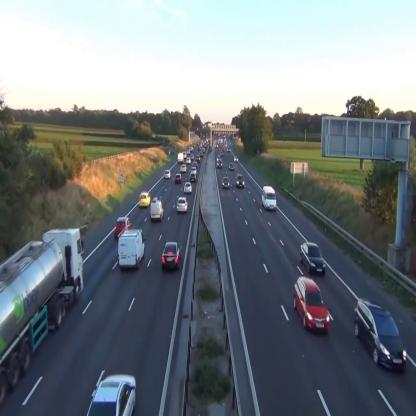car: (354, 298, 407, 372), (86, 374, 136, 416), (294, 276, 329, 334), (300, 242, 326, 276), (162, 242, 182, 272), (114, 217, 132, 238), (139, 191, 150, 207), (177, 197, 188, 213), (236, 174, 244, 188), (222, 177, 230, 189), (184, 182, 191, 192), (175, 173, 181, 183), (164, 170, 171, 178)
lorry: (0, 226, 83, 407), (118, 228, 146, 268), (262, 185, 276, 211), (150, 196, 164, 221)
